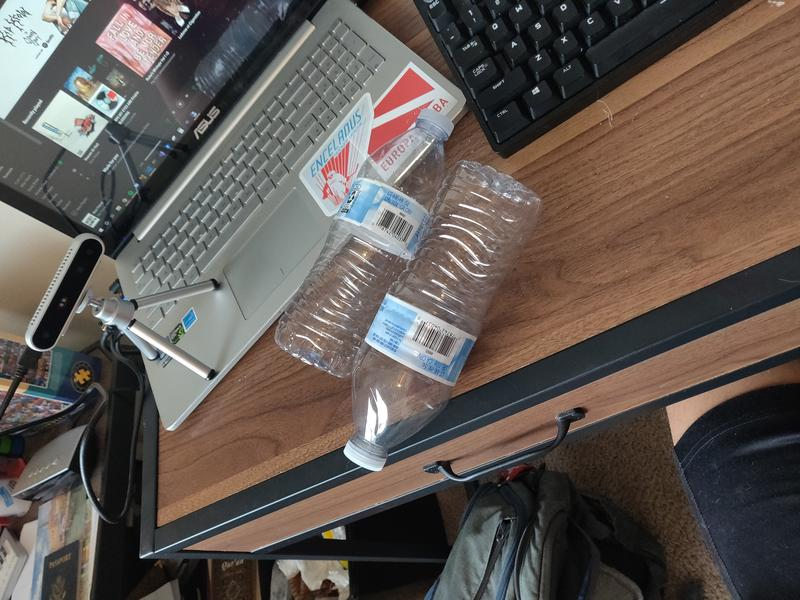bottle: (342, 161, 541, 471), (275, 108, 454, 377)
